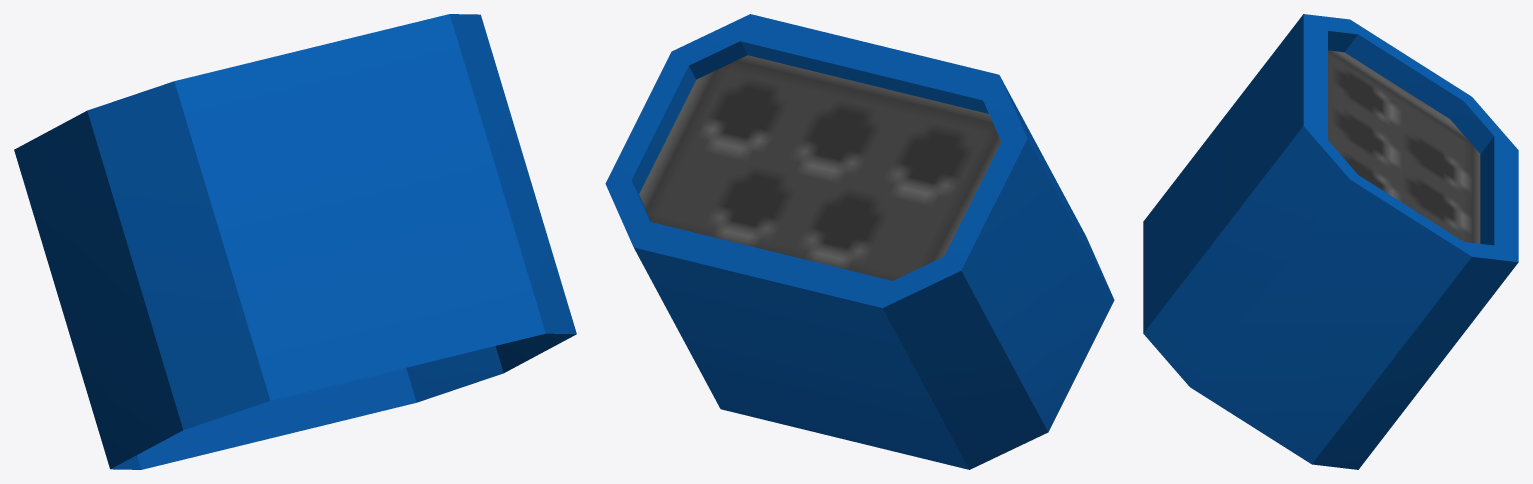
The model's file is RocketLauncher1Enemy3.fbx.
3 views of the same model, side by side, from view 1: azimuth 30°, elevation 25°; view 2: azimuth 150°, elevation 25°; view 3: azimuth 270°, elevation 25° (orthographic). The views are drawn at different scales.
Parts seen in each view (by area): view 1: RocketLauncher1Enemy3; view 2: RocketLauncher1Enemy3; view 3: RocketLauncher1Enemy3.
Part boxes in pixels (left/top/right/bottom): RocketLauncher1Enemy3: left=14, top=14, right=576, bottom=469; RocketLauncher1Enemy3: left=605, top=14, right=1114, bottom=469; RocketLauncher1Enemy3: left=1143, top=14, right=1518, bottom=469.
Bounding box in the file's own units: 0.4771 × 0.4813 × 0.4825.
